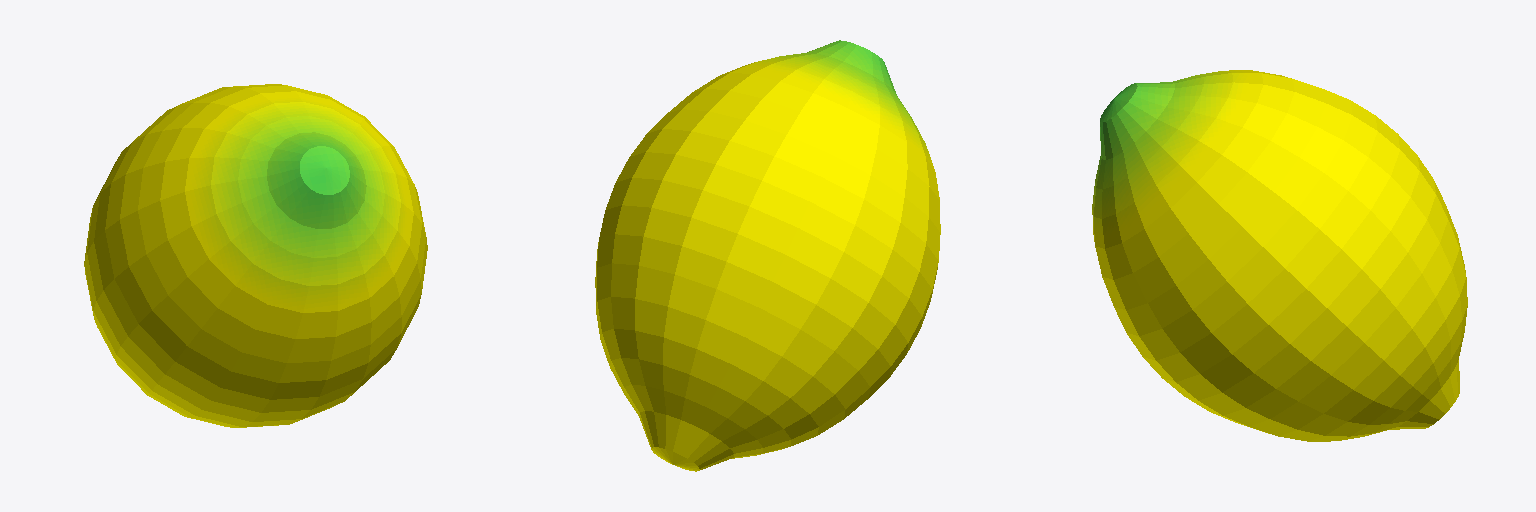
The picture shows the model from 3 angles: view 1: azimuth 30°, elevation 25°; view 2: azimuth 150°, elevation 25°; view 3: azimuth 270°, elevation 25°; orthographic projection.
Size of the model in its own units: 1.51 by 1.68 by 1.67.
1 materials, 1 textured.